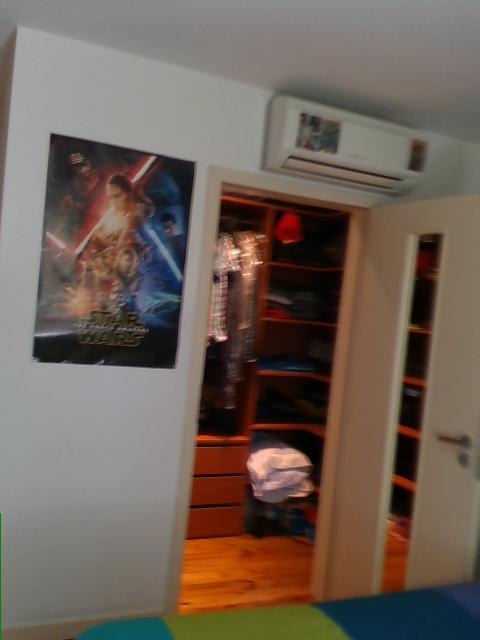door: (335, 202, 480, 603)
